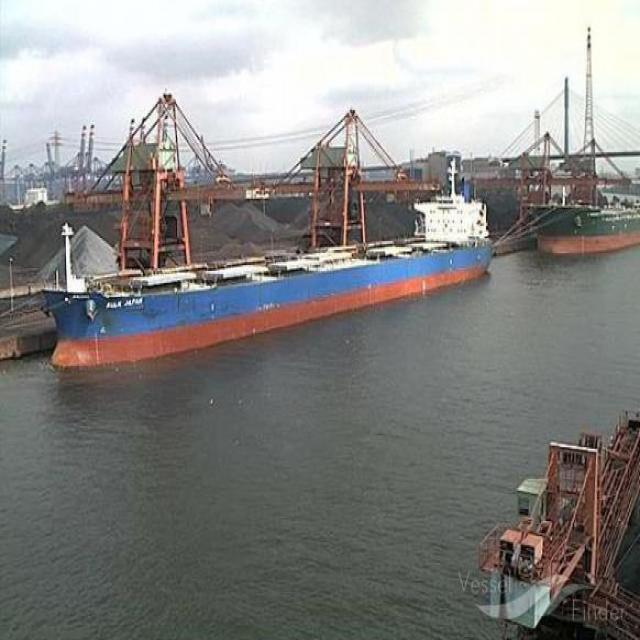OCR: (104, 297, 152, 314)
